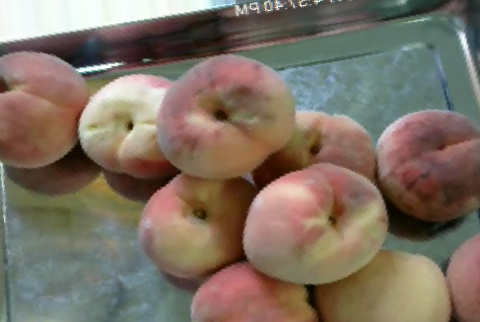Peach: (241, 164, 390, 283), (155, 57, 285, 178), (140, 169, 253, 280), (374, 107, 480, 224), (78, 72, 180, 180), (0, 50, 90, 168), (313, 252, 451, 322), (188, 262, 317, 322)
